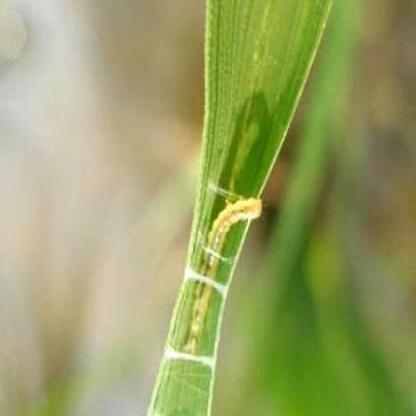leaf-folder: (135, 182, 282, 355)
